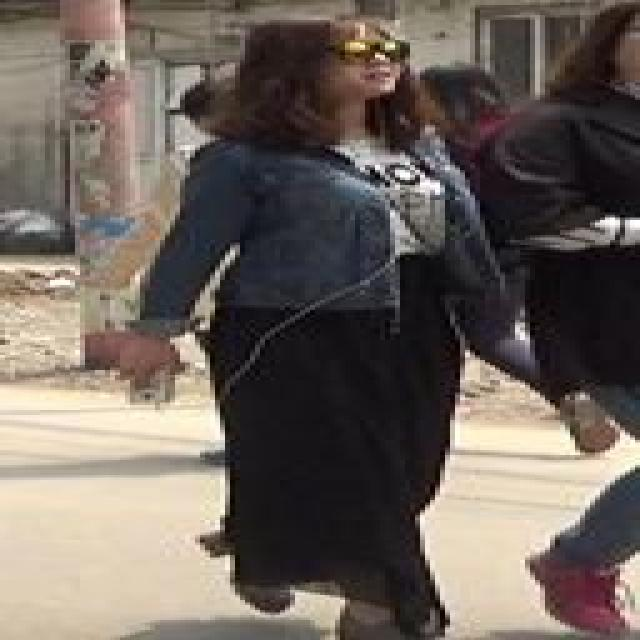adult: (122, 13, 520, 638)
